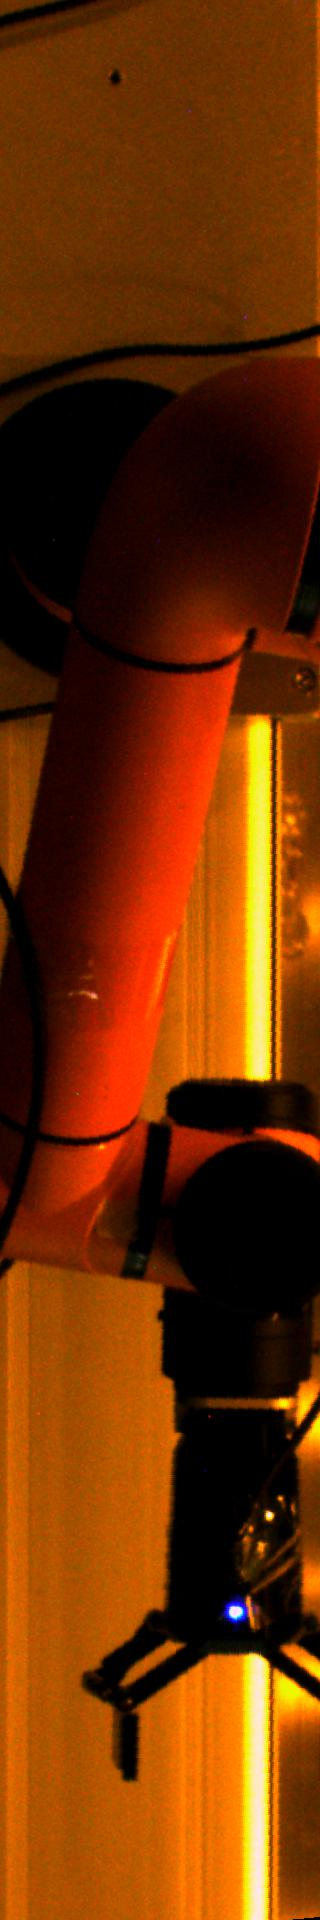keyPoint_1: (219, 1594, 250, 1624)
keyPoint_2: (99, 62, 129, 93)
